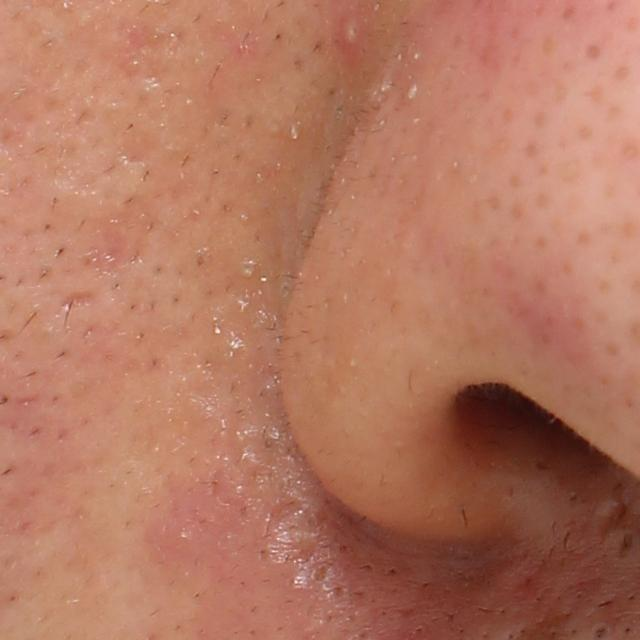atrophic_scar: (86, 191, 155, 272), (115, 117, 164, 166), (55, 289, 97, 313)
pustule: (337, 15, 367, 50)
